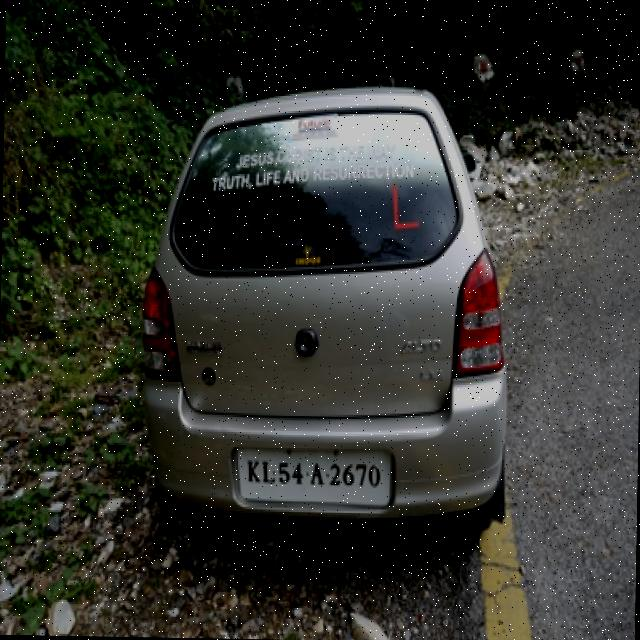Autre: (235, 445, 392, 512)
